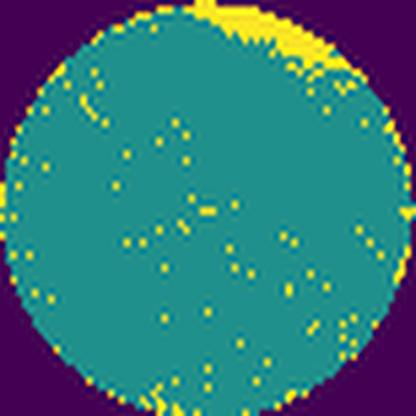Edge-Loc: (174, 0, 379, 104)
